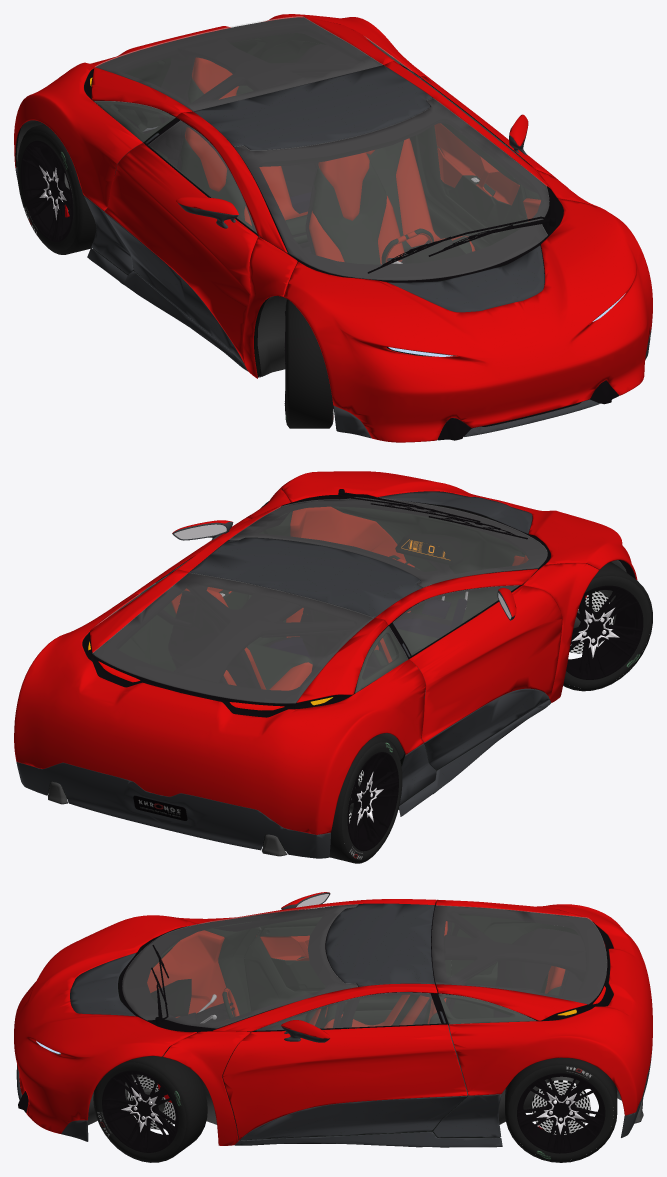
File: car_rain-opt.glb
3 views of the same model, one above another, from view 1: azimuth 30°, elevation 25°; view 2: azimuth 150°, elevation 25°; view 3: azimuth 270°, elevation 25° (orthographic). The views are drawn at different scales.
Visible parts, largest first — view 1: BodyRearPanelsColor1, BodyWindshield, BodyWindshieldGasket, BodyRoofPanel, InteriorDashSides, InteriorDashMid, InteriorSeatsColor2, object 21, WheelFrontLRim, BodyUnderside, InteriorMid, InteriorSteeringDash; view 2: BodyRearPanelsColor1, BodyWindshield, BodyRoofPanel, BodyWindshieldGasket, InteriorDashMid, WheelFrontLRim, object 21, InteriorDashSides, InteriorSeatsColor2, InteriorFloormats, InteriorSteeringDash, BodyUnderside (+3 smaller); view 3: BodyRearPanelsColor1, BodyWindshield, BodyRoofPanel, BodyWindshieldGasket, object 21, WheelFrontLRim, InteriorDashMid, InteriorDashSides, InteriorMid, WheelFrontLBrakeDisc, BodyUnderside, InteriorSeatsColor2 (+1 smaller).
Part boxes in pixels (x1=…): BodyRearPanelsColor1: x1=14, y1=14, x2=652, y2=442; BodyWindshield: x1=94, y1=16, x2=549, y2=280; BodyWindshieldGasket: x1=16, y1=17, x2=618, y2=440; BodyRoofPanel: x1=15, y1=65, x2=651, y2=438; InteriorDashSides: x1=185, y1=57, x2=540, y2=349; InteriorDashMid: x1=15, y1=33, x2=526, y2=281; InteriorSeatsColor2: x1=180, y1=78, x2=472, y2=264; object 21: x1=17, y1=124, x2=333, y2=428; WheelFrontLRim: x1=20, y1=140, x2=285, y2=414; BodyUnderside: x1=16, y1=78, x2=596, y2=430; InteriorMid: x1=93, y1=173, x2=557, y2=376; InteriorSteeringDash: x1=404, y1=239, x2=465, y2=263; BodyRearPanelsColor1: x1=14, y1=471, x2=637, y2=834; BodyWindshield: x1=92, y1=497, x2=547, y2=703; BodyRoofPanel: x1=16, y1=491, x2=550, y2=858; BodyWindshieldGasket: x1=82, y1=489, x2=635, y2=753; InteriorDashMid: x1=48, y1=502, x2=528, y2=850; WheelFrontLRim: x1=347, y1=585, x2=643, y2=851; object 21: x1=260, y1=501, x2=652, y2=863; InteriorDashSides: x1=171, y1=506, x2=528, y2=690; InteriorSeatsColor2: x1=246, y1=628, x2=437, y2=689; InteriorFloormats: x1=268, y1=598, x2=467, y2=659; InteriorSteeringDash: x1=395, y1=533, x2=462, y2=566; BodyUnderside: x1=48, y1=560, x2=626, y2=856; BodyRearPanelsColor1: x1=14, y1=892, x2=652, y2=1145; BodyWindshield: x1=122, y1=904, x2=606, y2=1030; BodyRoofPanel: x1=16, y1=892, x2=652, y2=1147; BodyWindshieldGasket: x1=18, y1=901, x2=613, y2=1143; object 21: x1=93, y1=1054, x2=617, y2=1162; WheelFrontLRim: x1=102, y1=1070, x2=605, y2=1153; InteriorDashMid: x1=118, y1=907, x2=613, y2=1030; InteriorDashSides: x1=147, y1=921, x2=565, y2=1028; InteriorMid: x1=205, y1=921, x2=499, y2=1143; WheelFrontLBrakeDisc: x1=127, y1=1075, x2=590, y2=1134; BodyUnderside: x1=39, y1=927, x2=643, y2=1125; InteriorSeatsColor2: x1=304, y1=973, x2=560, y2=1028.
Size of the model in its own units: 2.54 by 1.15 by 4.36.
Materials: 23 (18 with a texture image).
